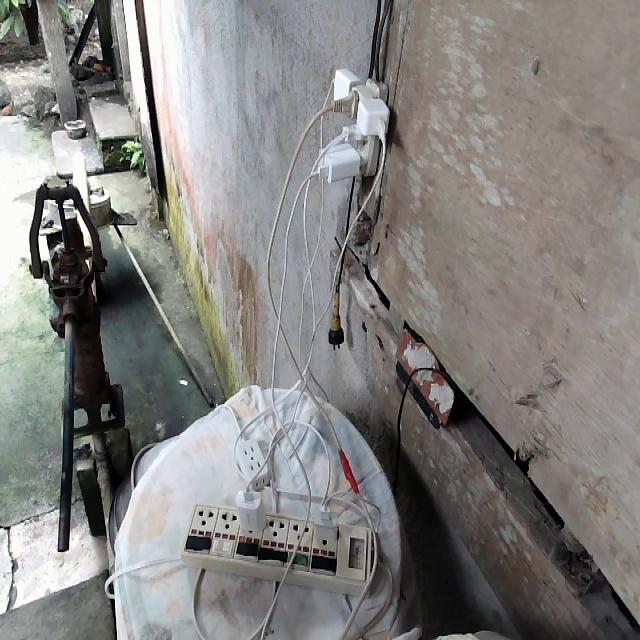-: (310, 68, 389, 181)
